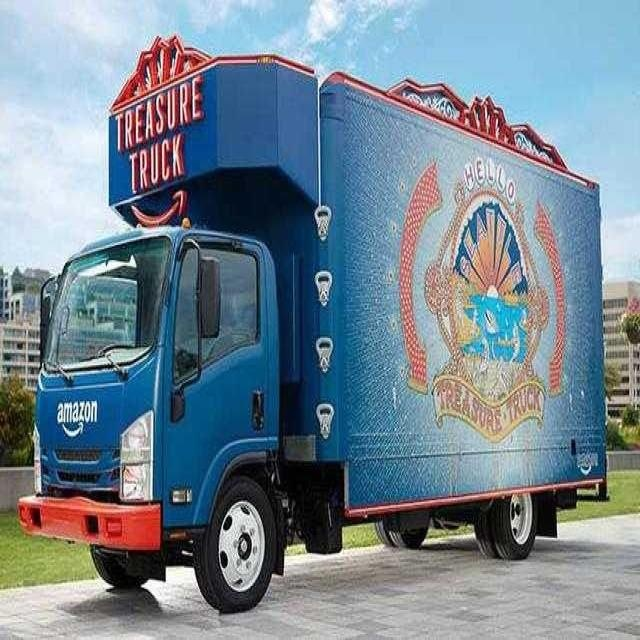Truck: (12, 27, 616, 627)
